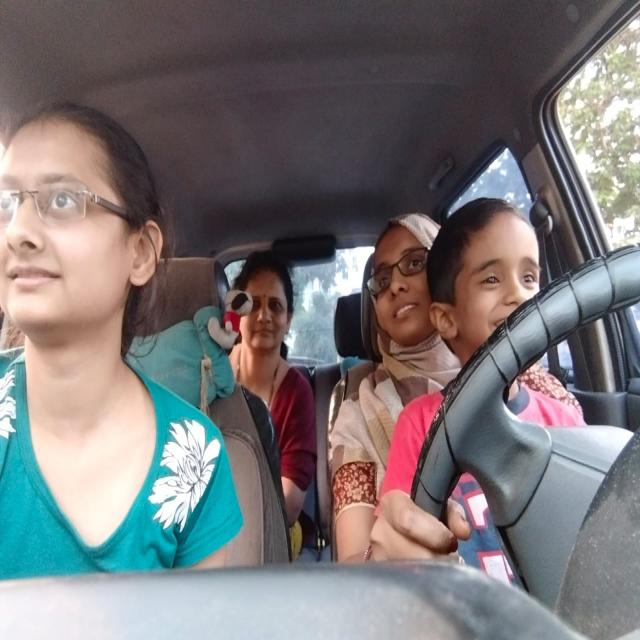child: (433, 207, 551, 361)
person: (3, 111, 159, 330), (362, 208, 436, 345), (241, 252, 293, 354)
